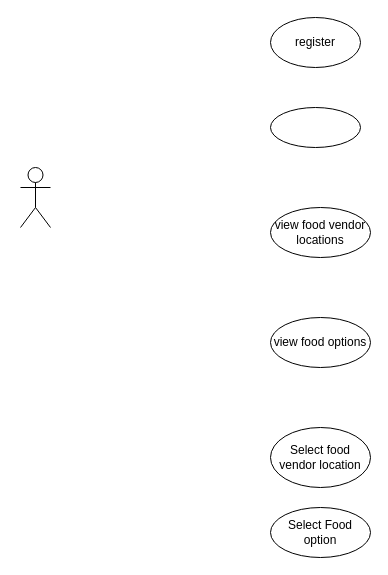
The diagram is 388 pixels wide and 575 high, and some of its shapes have lost their labels. Each missing label, with the centre of its shape:
Clients: [35,197]
login: [315,127]
